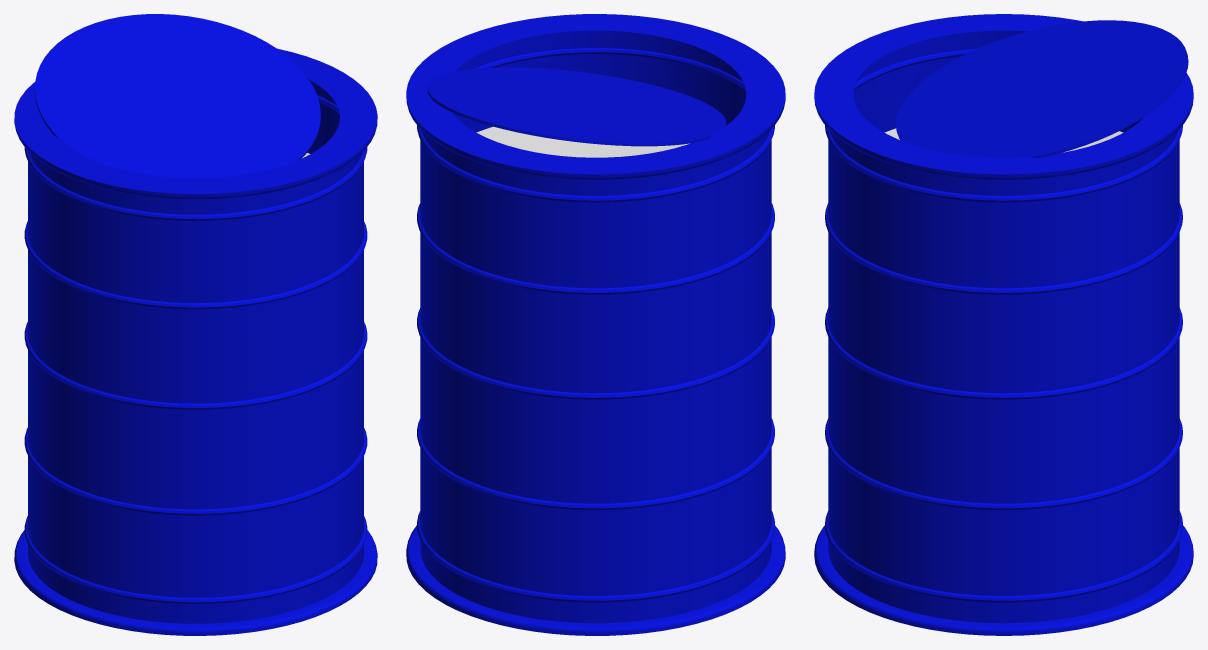
The model's file is MESH_BARILE_BLU_TEAM.fbx.
3 renders of one model, left to right at view 1: azimuth 30°, elevation 25°; view 2: azimuth 150°, elevation 25°; view 3: azimuth 270°, elevation 25°, orthographic. The views are drawn at different scales.
Parts seen in each view (by area): view 1: Cylinder.043, Cylinder.010; view 2: Cylinder.043, Cylinder.010, Cylinder.044; view 3: Cylinder.043, Cylinder.010.
Boxes of the visible parts, x1,y1,x2,y2 form: Cylinder.043: (14,48,377,635); Cylinder.010: (34,14,320,177); Cylinder.043: (406,14,785,635); Cylinder.010: (427,67,726,146); Cylinder.044: (476,126,689,157); Cylinder.043: (814,14,1193,635); Cylinder.010: (895,20,1188,157).
Bounding box in the file's own units: 0.6481 × 0.9366 × 0.6481.
